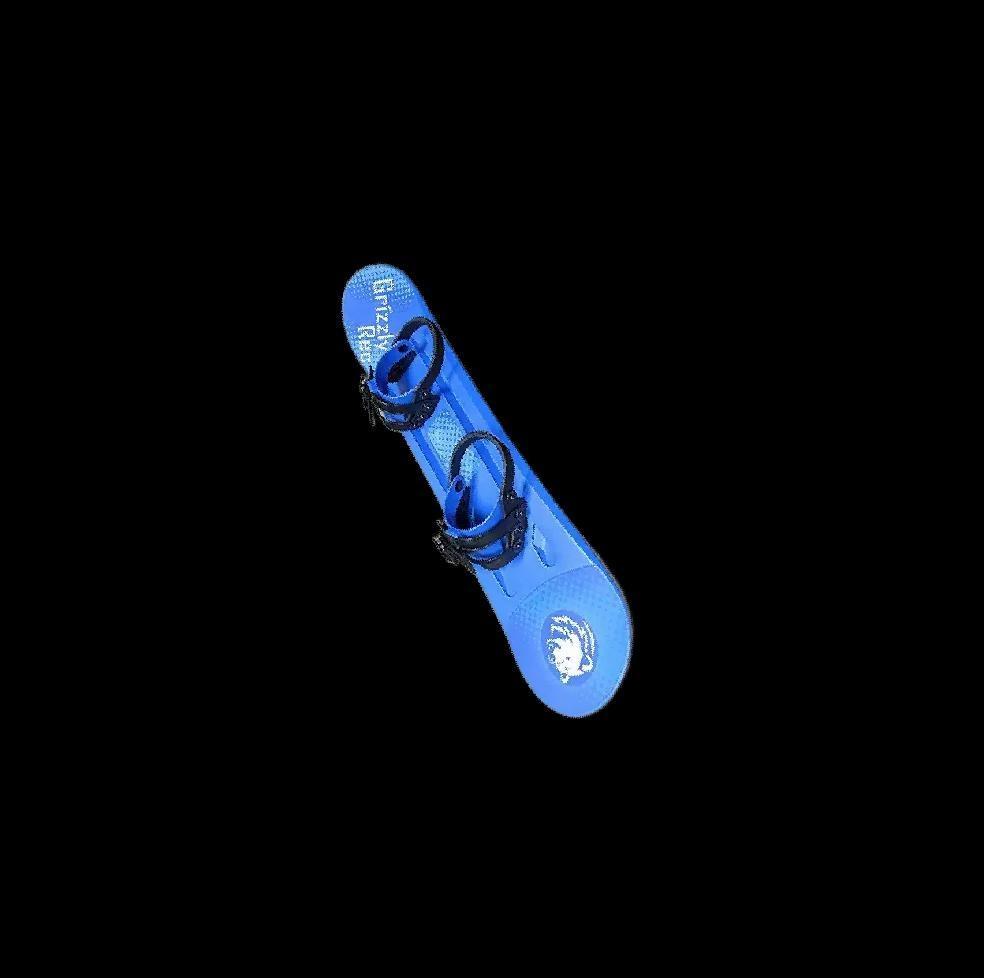Snowboard: (339, 260, 634, 719)
